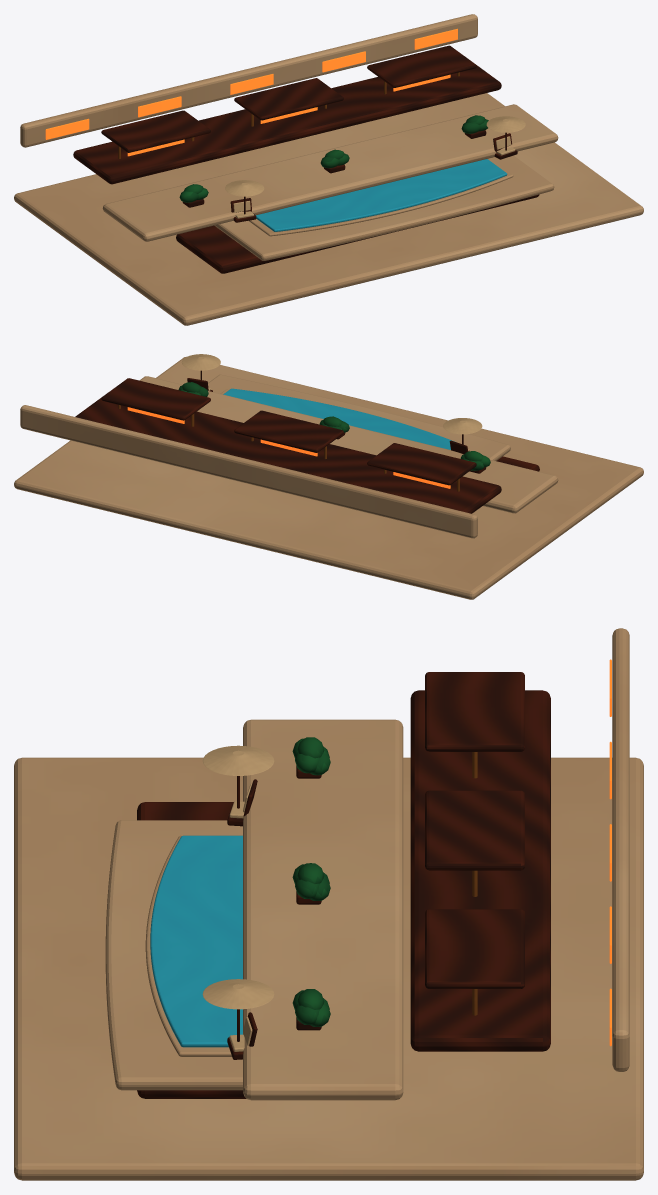
File: hotel-roof-detail.glb
3 views of the same model, one above another, from view 1: azimuth 30°, elevation 25°; view 2: azimuth 150°, elevation 25°; view 3: azimuth 270°, elevation 25° (orthographic). The views are drawn at different scales.
Visible parts, largest first — view 1: ASSET_HOTEL_ROOF_PaleTravertine, ASSET_HOTEL_ROOF_DarkTeak, RoofPoolPoolWater, ASSET_HOTEL_ROOF_WarmEmissive, ASSET_HOTEL_ROOF_ResortLoungeFabric, ASSET_HOTEL_ROOF_RoofPlant; view 2: ASSET_HOTEL_ROOF_PaleTravertine, ASSET_HOTEL_ROOF_DarkTeak, RoofPoolPoolWater, ASSET_HOTEL_ROOF_ResortLoungeFabric, ASSET_HOTEL_ROOF_RoofPlant, ASSET_HOTEL_ROOF_WarmEmissive; view 3: ASSET_HOTEL_ROOF_PaleTravertine, ASSET_HOTEL_ROOF_DarkTeak, RoofPoolPoolWater, ASSET_HOTEL_ROOF_ResortLoungeFabric, ASSET_HOTEL_ROOF_RoofPlant, ASSET_HOTEL_ROOF_WarmEmissive.
Boxes of the visible parts, x1,y1,x2,y2 form: ASSET_HOTEL_ROOF_PaleTravertine: (14, 14, 643, 325); ASSET_HOTEL_ROOF_DarkTeak: (73, 45, 539, 273); RoofPoolPoolWater: (256, 159, 507, 231); ASSET_HOTEL_ROOF_WarmEmissive: (45, 28, 457, 156); ASSET_HOTEL_ROOF_ResortLoungeFabric: (225, 116, 525, 218); ASSET_HOTEL_ROOF_RoofPlant: (179, 115, 488, 202); ASSET_HOTEL_ROOF_PaleTravertine: (14, 356, 643, 599); ASSET_HOTEL_ROOF_DarkTeak: (75, 370, 539, 513); RoofPoolPoolWater: (223, 388, 454, 449); ASSET_HOTEL_ROOF_ResortLoungeFabric: (181, 354, 482, 434); ASSET_HOTEL_ROOF_RoofPlant: (178, 382, 490, 470); ASSET_HOTEL_ROOF_WarmEmissive: (127, 407, 450, 488); ASSET_HOTEL_ROOF_PaleTravertine: (14, 628, 643, 1180); ASSET_HOTEL_ROOF_DarkTeak: (137, 672, 550, 1098); RoofPoolPoolWater: (150, 835, 242, 1047); ASSET_HOTEL_ROOF_ResortLoungeFabric: (202, 745, 274, 1051); ASSET_HOTEL_ROOF_RoofPlant: (292, 737, 330, 1026); ASSET_HOTEL_ROOF_WarmEmissive: (609, 659, 611, 1046).
Size of the model in its own units: 17 by 2.9 by 11.
7 materials, 7 textured.
